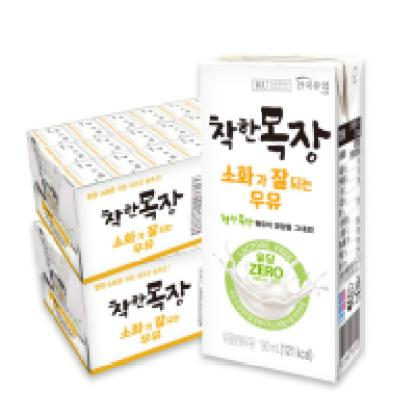tetra: (187, 38, 387, 398)
